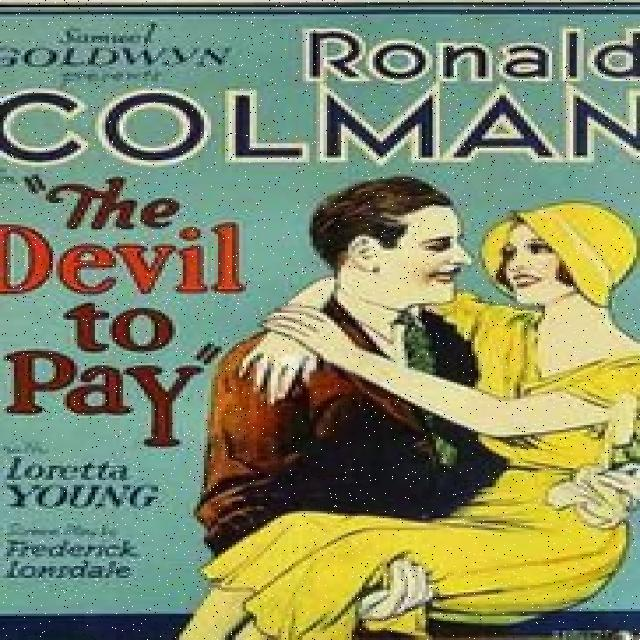movie-judul: (0, 168, 241, 455)
picture: (220, 185, 640, 640)
